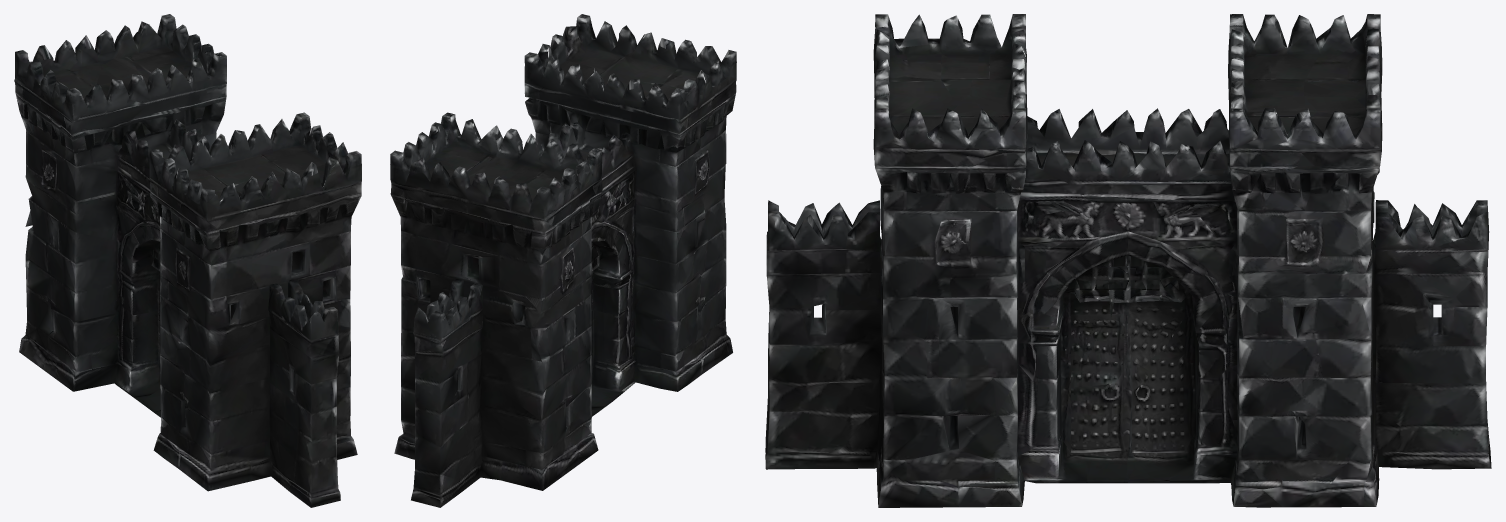
Rendered from castle_gate_diamond_black.glb.
3 renders of one model, left to right at view 1: azimuth 30°, elevation 25°; view 2: azimuth 150°, elevation 25°; view 3: azimuth 270°, elevation 25°, orthographic. The views are drawn at different scales.
Visible parts, largest first — view 1: tripo_node_2309ad21-f497-4ac5-a074-b56a7fb2d04c; view 2: tripo_node_2309ad21-f497-4ac5-a074-b56a7fb2d04c; view 3: tripo_node_2309ad21-f497-4ac5-a074-b56a7fb2d04c.
Part boxes in pixels (x1,y1,x2,y2): tripo_node_2309ad21-f497-4ac5-a074-b56a7fb2d04c: [14, 14, 361, 507]; tripo_node_2309ad21-f497-4ac5-a074-b56a7fb2d04c: [390, 14, 736, 507]; tripo_node_2309ad21-f497-4ac5-a074-b56a7fb2d04c: [765, 14, 1491, 507].
Bounding box in the file's own units: 0.3212 × 0.5923 × 0.9772.
1 material, 1 textured.
